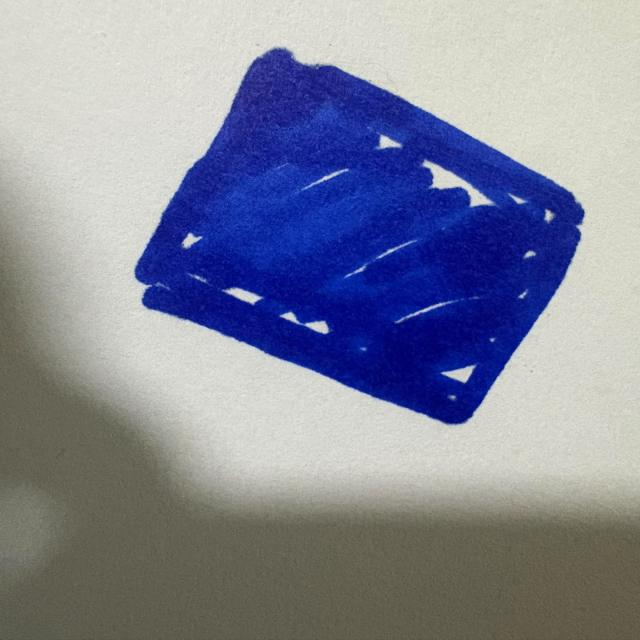Square: (136, 49, 583, 423)
